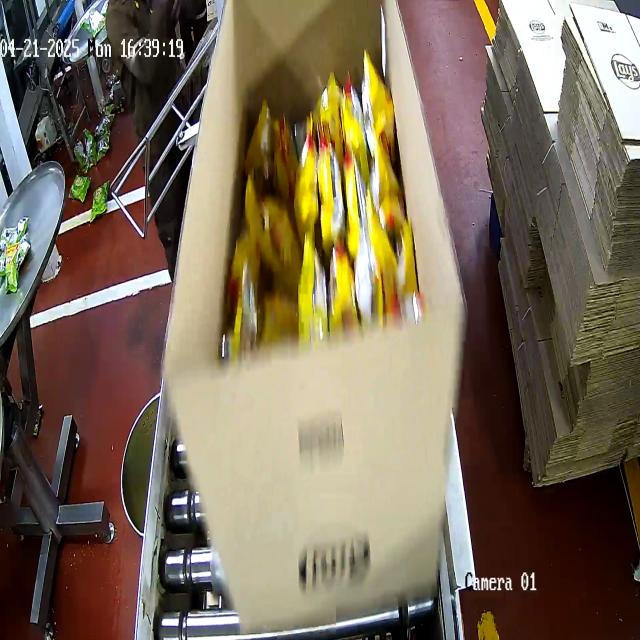SALTED: (219, 57, 410, 374)
